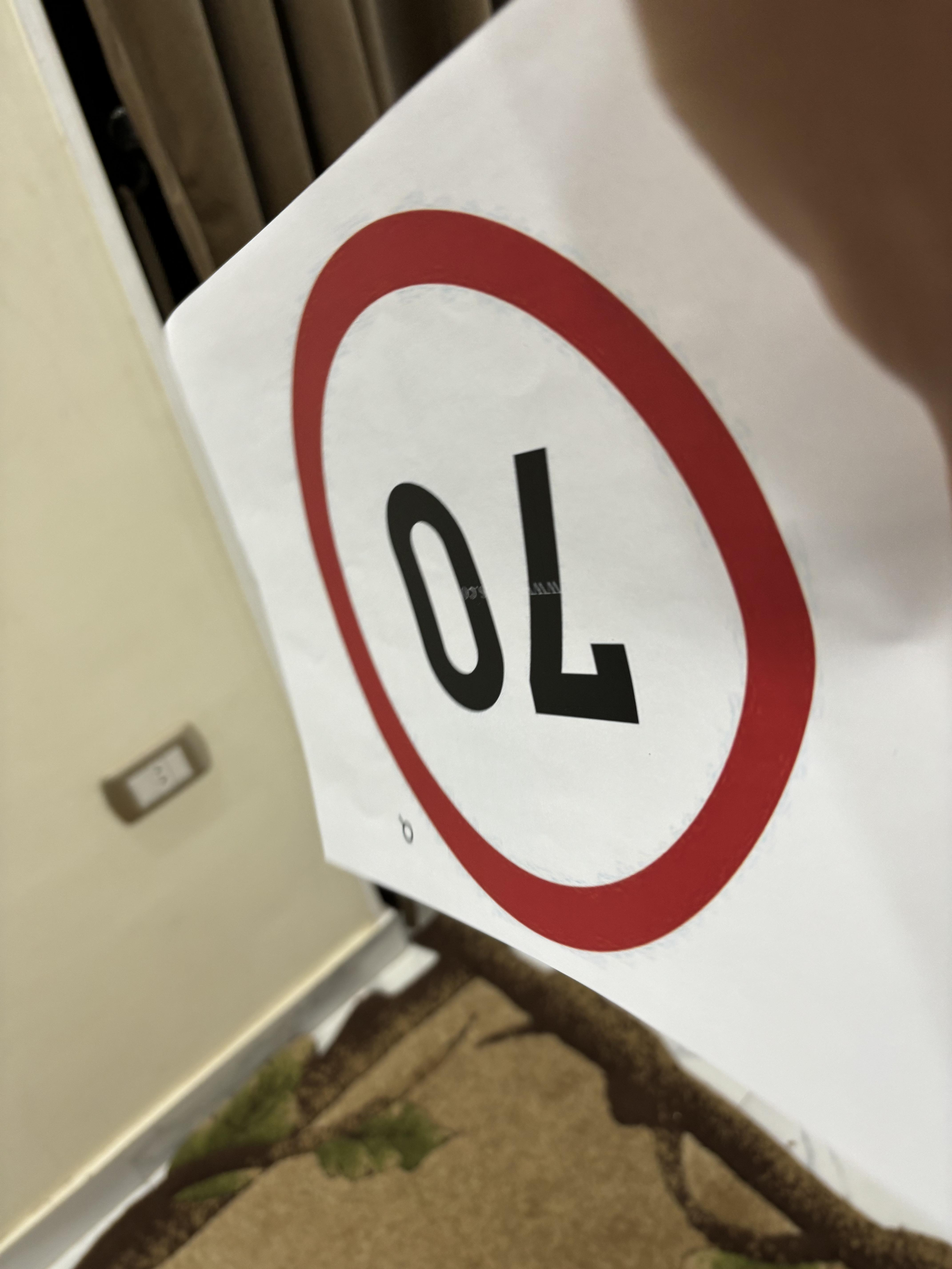70-Speed: (290, 196, 829, 959)
